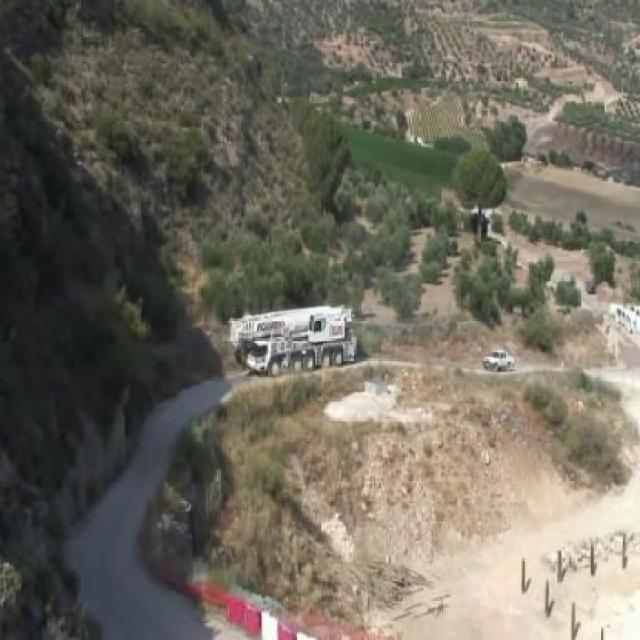Mobile Crane: (229, 306, 356, 372)
